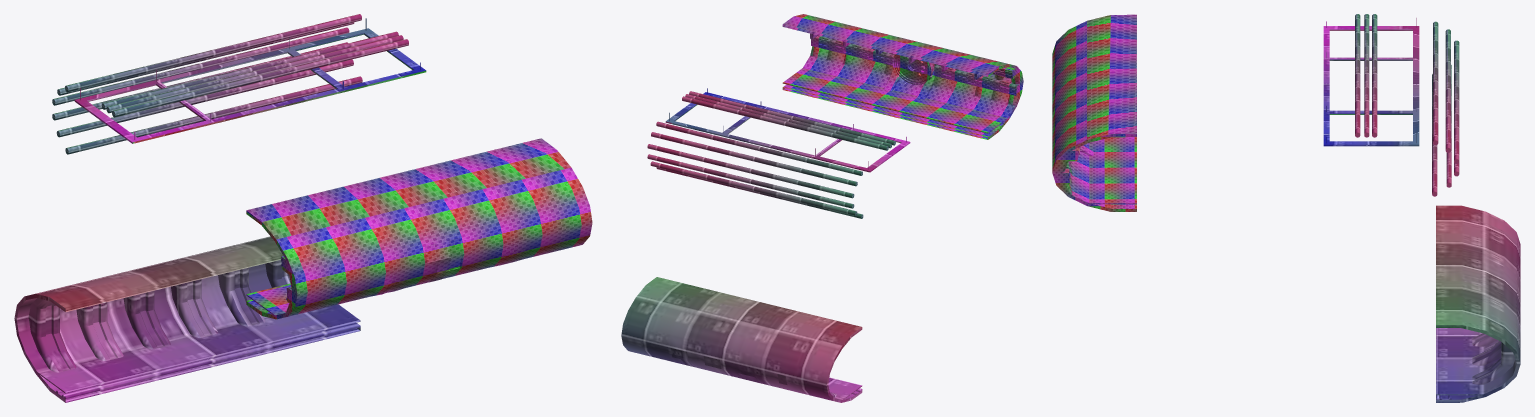
The model's file is OvalHallwayUV.obj.
The picture shows the model from 3 angles, left to right: view 1: azimuth 30°, elevation 25°; view 2: azimuth 150°, elevation 25°; view 3: azimuth 270°, elevation 25°; orthographic projection. The views are drawn at different scales.
Visible parts, largest first — view 1: HallwayMain polySurface3, HallwayMain HallwayPillarHalf, Hanging_Frame, WallPipe1, CeilingPipe1, WallPipe6, WallPipe3, WallPipe5, CeilingPipe2, CeilingPipe3, WallPipe4, WallPipe2; view 2: HallwayMain HallwayPillarHalf, HallwayMain polySurface3, Hanging_Frame, WallPipe4, CeilingPipe3, WallPipe3, WallPipe5, WallPipe2, WallPipe1, CeilingPipe1, CeilingPipe2, WallPipe6; view 3: HallwayMain HallwayPillarHalf, HallwayMain polySurface3, Hanging_Frame, WallPipe1, WallPipe3, CeilingPipe1, CeilingPipe2, CeilingPipe3, WallPipe2.
Boxes of the visible parts, x1=… form: HallwayMain polySurface3: x1=246, y1=138, x2=592, y2=319; HallwayMain HallwayPillarHalf: x1=14, y1=236, x2=360, y2=402; Hanging_Frame: x1=74, y1=18, x2=426, y2=143; WallPipe1: x1=65, y1=14, x2=361, y2=92; CeilingPipe1: x1=112, y1=39, x2=408, y2=117; WallPipe6: x1=65, y1=76, x2=362, y2=154; WallPipe3: x1=52, y1=27, x2=349, y2=105; WallPipe5: x1=56, y1=59, x2=353, y2=137; CeilingPipe2: x1=106, y1=35, x2=403, y2=113; CeilingPipe3: x1=101, y1=31, x2=398, y2=109; WallPipe4: x1=52, y1=42, x2=347, y2=120; WallPipe2: x1=57, y1=22, x2=354, y2=95; HallwayMain HallwayPillarHalf: x1=621, y1=277, x2=862, y2=402; HallwayMain polySurface3: x1=782, y1=14, x2=1023, y2=139; Hanging_Frame: x1=665, y1=88, x2=910, y2=172; WallPipe4: x1=647, y1=154, x2=854, y2=208; CeilingPipe3: x1=682, y1=96, x2=888, y2=150; WallPipe3: x1=647, y1=144, x2=854, y2=198; WallPipe5: x1=650, y1=161, x2=857, y2=215; WallPipe2: x1=651, y1=132, x2=857, y2=186; WallPipe1: x1=656, y1=121, x2=862, y2=175; CeilingPipe1: x1=689, y1=91, x2=895, y2=145; CeilingPipe2: x1=685, y1=94, x2=891, y2=148; WallPipe6: x1=656, y1=167, x2=863, y2=218; HallwayMain HallwayPillarHalf: x1=1436, y1=205, x2=1520, y2=402; HallwayMain polySurface3: x1=1052, y1=14, x2=1136, y2=211; Hanging_Frame: x1=1323, y1=18, x2=1419, y2=146; WallPipe1: x1=1433, y1=21, x2=1438, y2=145; WallPipe3: x1=1454, y1=40, x2=1459, y2=163; CeilingPipe1: x1=1355, y1=14, x2=1360, y2=137; CeilingPipe2: x1=1364, y1=14, x2=1369, y2=137; CeilingPipe3: x1=1372, y1=14, x2=1377, y2=137; WallPipe2: x1=1445, y1=29, x2=1450, y2=152.
Bounding box in the file's own units: 26.71 × 28.11 × 44.2.
1 material, 1 textured.
